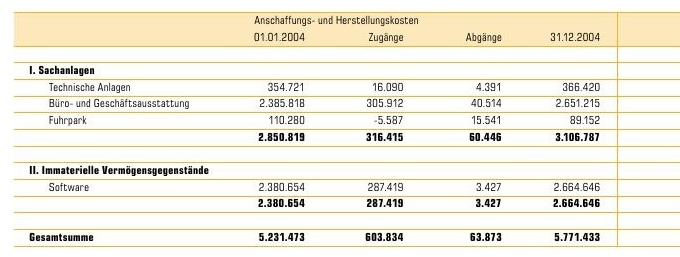table: (0, 0, 680, 257)
